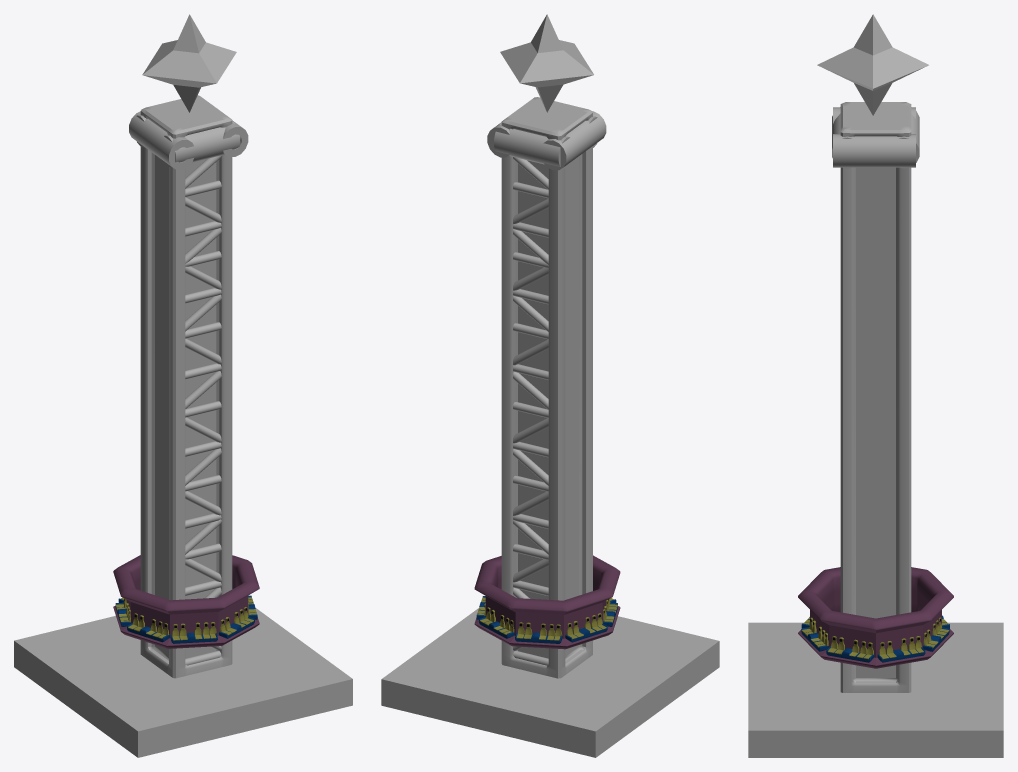
File: rollingdrop.fbx
3 views of the same model, side by side, from view 1: azimuth 30°, elevation 25°; view 2: azimuth 150°, elevation 25°; view 3: azimuth 270°, elevation 25° (orthographic). The views are drawn at different scales.
Visible parts, largest first — view 1: pCube2, pCube1, rollerwithseats, pSuperShape1, pPipe60, pPipe30; view 2: pCube2, pCube1, rollerwithseats, pSuperShape1, pPipe29, pPipe60; view 3: pCube2, pCube1, rollerwithseats, pSuperShape1, pPipe59.
Part boxes in pixels (bbox=[...]): pCube2: bbox=[140, 95, 232, 678]; pCube1: bbox=[14, 608, 352, 757]; rollerwithseats: bbox=[113, 555, 259, 648]; pSuperShape1: bbox=[142, 14, 236, 112]; pPipe60: bbox=[129, 111, 193, 169]; pPipe30: bbox=[164, 120, 240, 167]; pCube2: bbox=[501, 97, 592, 678]; pCube1: bbox=[381, 608, 719, 757]; rollerwithseats: bbox=[474, 555, 620, 649]; pSuperShape1: bbox=[500, 14, 593, 112]; pPipe29: bbox=[494, 122, 569, 168]; pPipe60: bbox=[543, 111, 606, 170]; pCube2: bbox=[840, 102, 911, 692]; pCube1: bbox=[748, 622, 1003, 757]; rollerwithseats: bbox=[798, 567, 953, 668]; pSuperShape1: bbox=[817, 14, 928, 115]; pPipe59: bbox=[833, 134, 915, 167].
Size of the model in its own units: 81.94 by 245 by 81.94.
